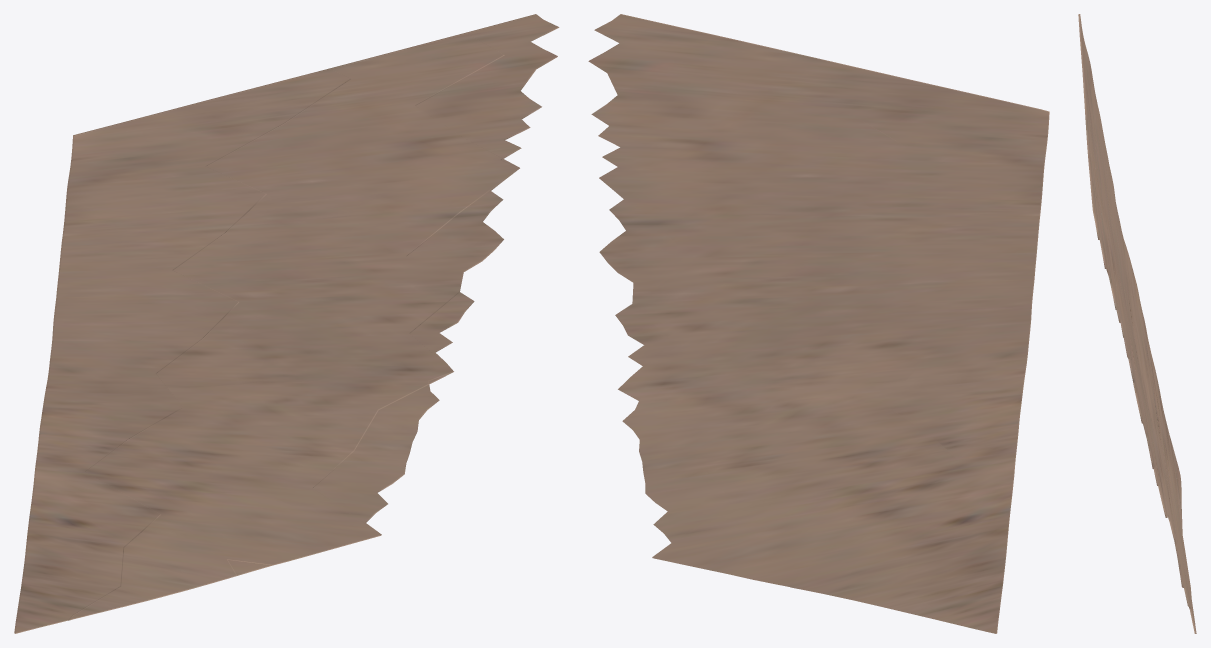
3 views of the same model, side by side, from view 1: azimuth 30°, elevation 25°; view 2: azimuth 150°, elevation 25°; view 3: azimuth 270°, elevation 25° (orthographic). The views are drawn at different scales.
Size of the model in its own units: 26.9 by 27.83 by 6.44.
Materials: 1 (1 with a texture image).
